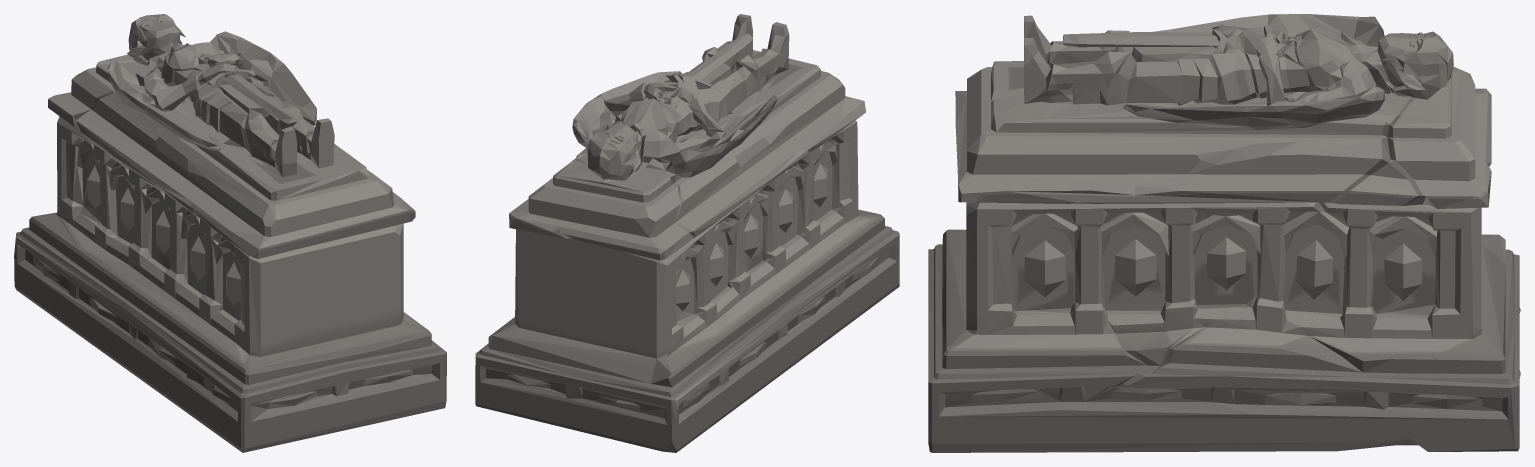
File: crypt_tomb_a.gltf
3 renders of one model, left to right at view 1: azimuth 30°, elevation 25°; view 2: azimuth 150°, elevation 25°; view 3: azimuth 270°, elevation 25°, orthographic. The views are drawn at different scales.
Parts seen in each view (by area): view 1: crypt_tomb_a; view 2: crypt_tomb_a; view 3: crypt_tomb_a.
Part boxes in pixels (x1,y1,x2,y2): crypt_tomb_a: (14,14,446,452); crypt_tomb_a: (475,14,899,452); crypt_tomb_a: (928,14,1520,452).
Size of the model in its own units: 1.36 by 1.77 by 2.62.
1 material, 1 textured.
